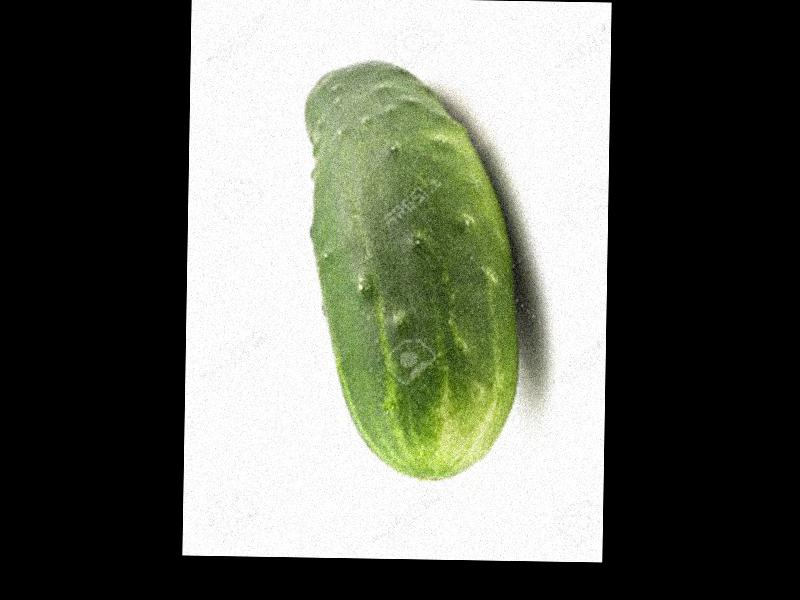Cucumber: (298, 59, 525, 482)
